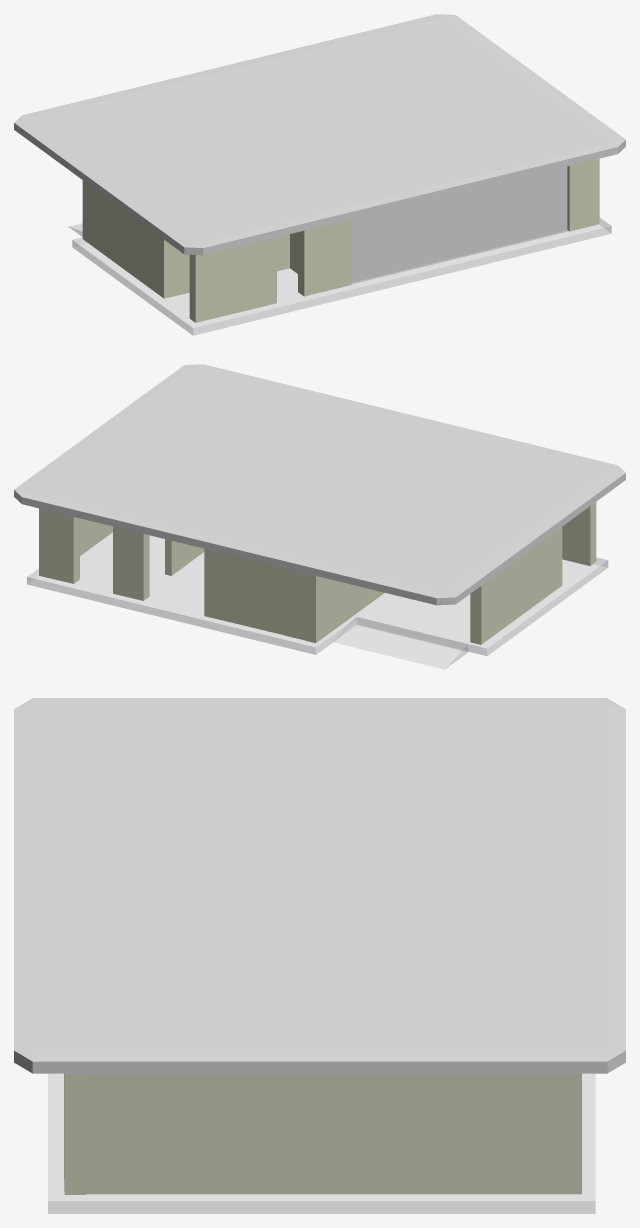
File: building18.glb
The picture shows the model from 3 angles, top to bottom: view 1: azimuth 30°, elevation 25°; view 2: azimuth 150°, elevation 25°; view 3: azimuth 270°, elevation 25°; orthographic projection. The views are drawn at different scales.
Parts seen in each view (by area): view 1: roof, Walls, backyard-glass, floor; view 2: roof, Walls, floor, Cube; view 3: roof, Walls, floor.
Part boxes in pixels (x1,y1,x2,y2): roof: (14,14,625,255); Walls: (82,158,599,322); backyard-glass: (351,166,567,283); floor: (72,218,611,335); roof: (14,364,625,605); Walls: (39,502,596,644); floor: (27,532,608,655); Cube: (333,617,468,669); roof: (14,698,625,1073); Walls: (64,1073,581,1194); floor: (48,1073,595,1213).
Size of the model in its own units: 15.42 by 3.22 by 10.97.
